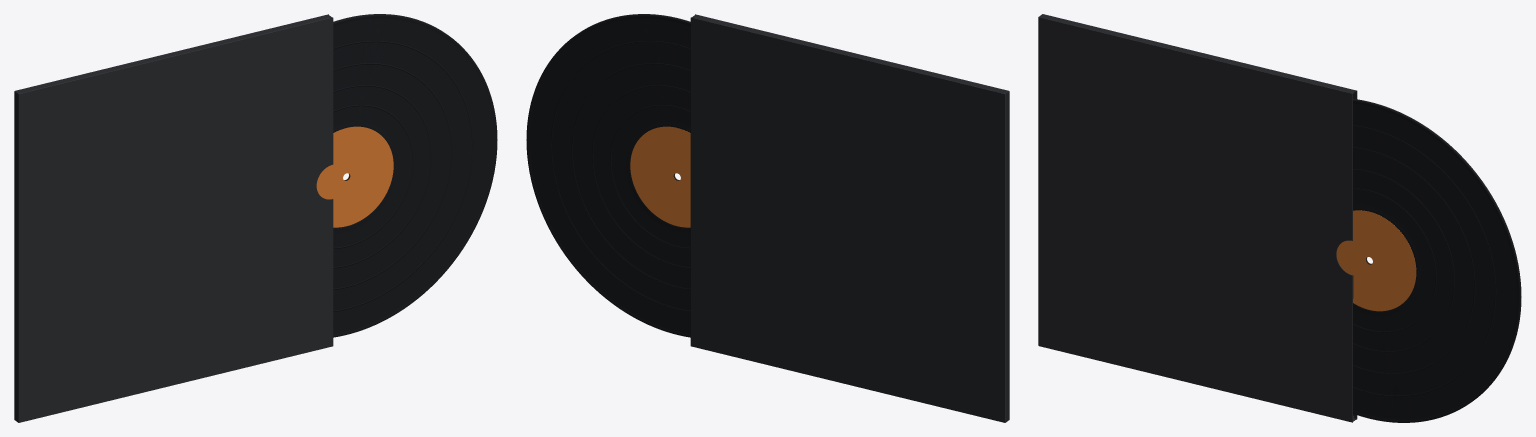
Rendered from vinyl.glb.
3 renders of one model, left to right at view 1: azimuth 30°, elevation 25°; view 2: azimuth 150°, elevation 25°; view 3: azimuth 330°, elevation 25°, orthographic.
Visible parts, largest first — view 1: Sleeve_Front_Print, Grooved record with open spindle hole, Front paper label, Folded left spine, Glued horizontal seam.001, Quiet band 4, Quiet band 3, Quiet band 2; view 2: Sleeve_Back_Print, Grooved record with open spindle hole, Back paper label, Folded left spine, Glued horizontal seam.001, Quiet band 4, Quiet band 3, Quiet band 2; view 3: Sleeve_Front_Print, Grooved record with open spindle hole, Front paper label, Glued horizontal seam.001, Quiet band 4, Quiet band 3, Quiet band 2, Quiet band 1.
Part boxes in pixels (x1,y1,x2,y2): Sleeve_Front_Print: [18, 17, 333, 422]; Grooved record with open spindle hole: [333, 14, 497, 337]; Front paper label: [316, 126, 393, 227]; Folded left spine: [14, 91, 18, 422]; Glued horizontal seam.001: [16, 14, 331, 93]; Quiet band 4: [333, 41, 473, 311]; Quiet band 3: [333, 63, 452, 289]; Quiet band 2: [333, 85, 431, 268]; Sleeve_Back_Print: [690, 17, 1005, 422]; Grooved record with open spindle hole: [526, 14, 690, 337]; Back paper label: [630, 126, 690, 227]; Folded left spine: [1005, 91, 1009, 422]; Glued horizontal seam.001: [692, 14, 1007, 93]; Quiet band 4: [550, 41, 690, 311]; Quiet band 3: [571, 63, 690, 289]; Quiet band 2: [592, 85, 690, 268]; Sleeve_Front_Print: [1038, 17, 1353, 422]; Grooved record with open spindle hole: [1353, 99, 1521, 422]; Front paper label: [1336, 210, 1416, 311]; Glued horizontal seam.001: [1040, 14, 1355, 93]; Quiet band 4: [1353, 125, 1496, 396]; Quiet band 3: [1353, 147, 1475, 374]; Quiet band 2: [1353, 169, 1454, 352]; Quiet band 1: [1353, 188, 1436, 332].
Size of the model in its own units: 48.03 by 31.42 by 0.765.
